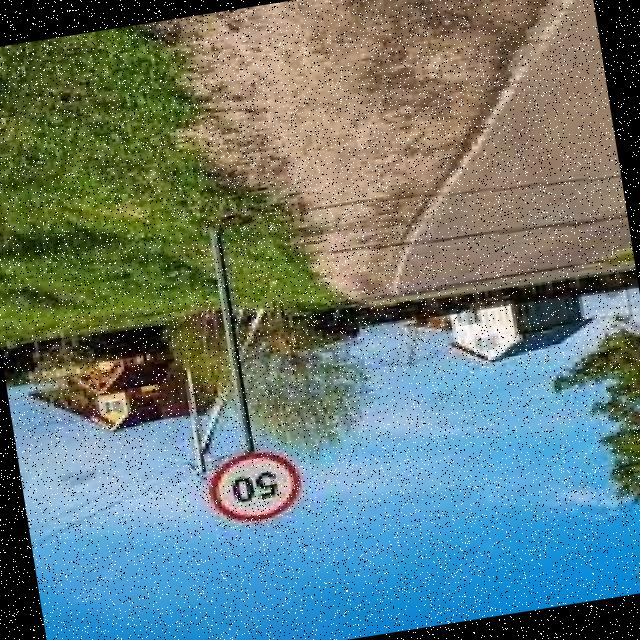speed_limit_50: (190, 438, 328, 545)
